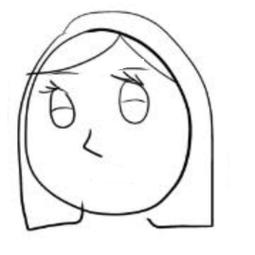eye: (112, 70, 156, 128), (37, 79, 76, 131)
eyebrow: (111, 60, 152, 73), (52, 68, 83, 77)
pointy_nose: (78, 126, 104, 160)
